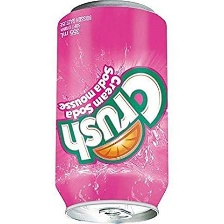can: (50, 0, 170, 222)
